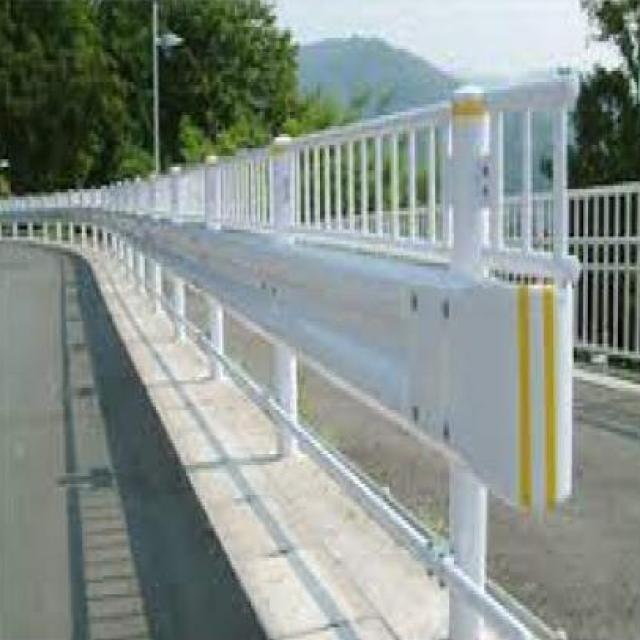Guard rail: (0, 89, 575, 611)
